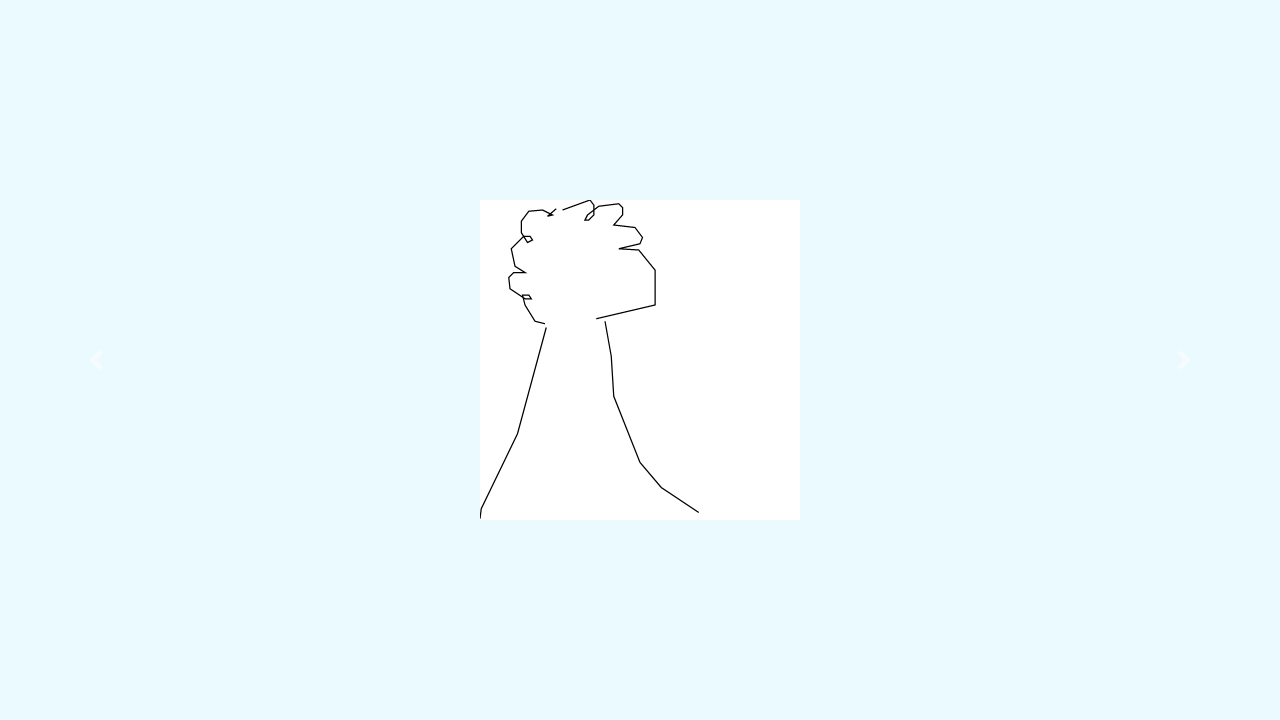tree: (471, 194, 706, 529)
